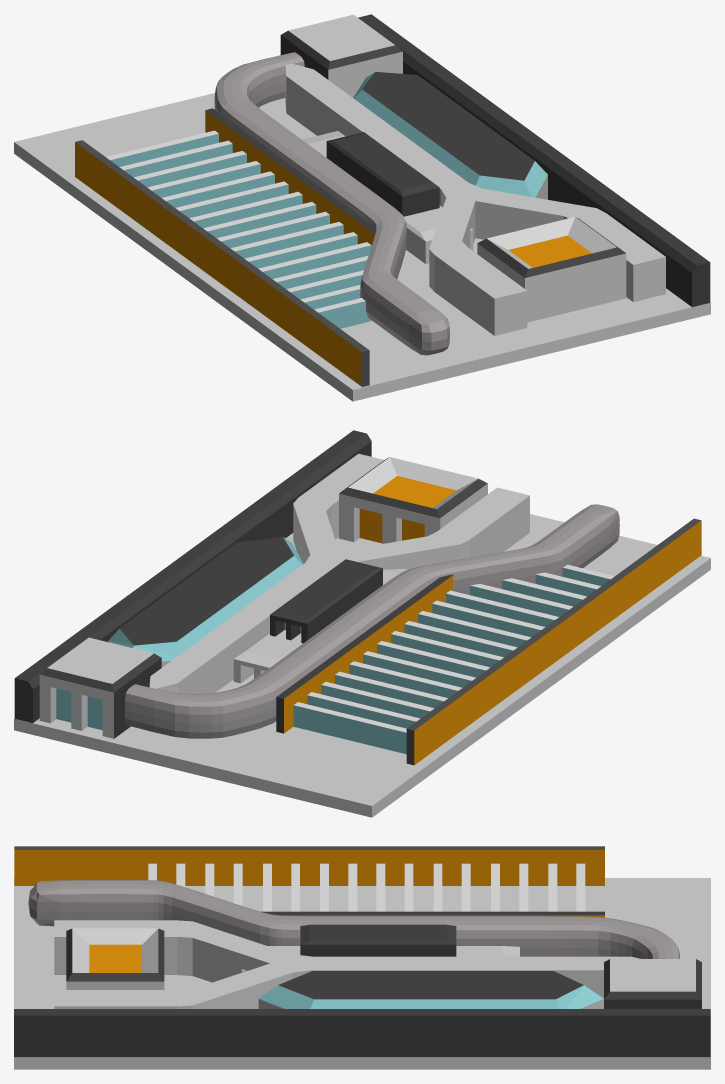
The model's file is Floor.dae.
3 renders of one model, top to bottom at view 1: azimuth 30°, elevation 25°; view 2: azimuth 150°, elevation 25°; view 3: azimuth 270°, elevation 25°, orthographic. The views are drawn at different scales.
Parts seen in each view (by area): view 1: Plane_020; view 2: Plane_020; view 3: Plane_020.
Boxes of the visible parts, x1,y1,x2,y2 form: Plane_020: (14, 14, 710, 401); Plane_020: (14, 430, 710, 817); Plane_020: (14, 846, 710, 1069).
Bounding box in the file's own units: 8.68 × 14.22 × 1.46.
